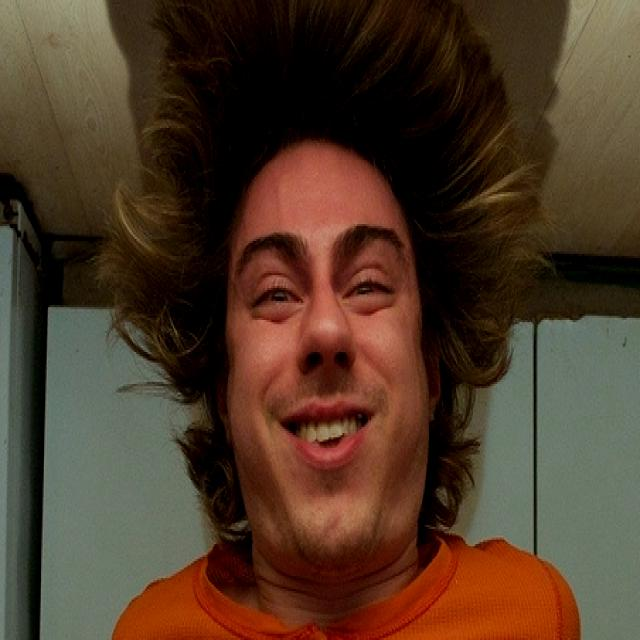piel: (222, 143, 438, 619)
